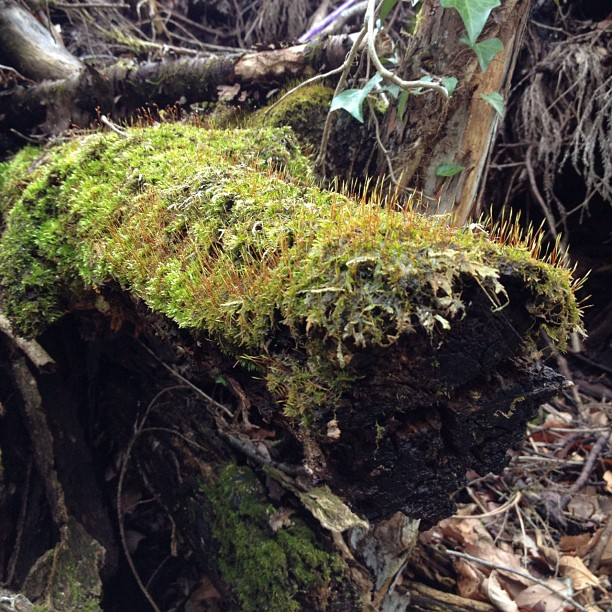tree trunk: (1, 104, 561, 542)
vegetation: (1, 1, 612, 612)
